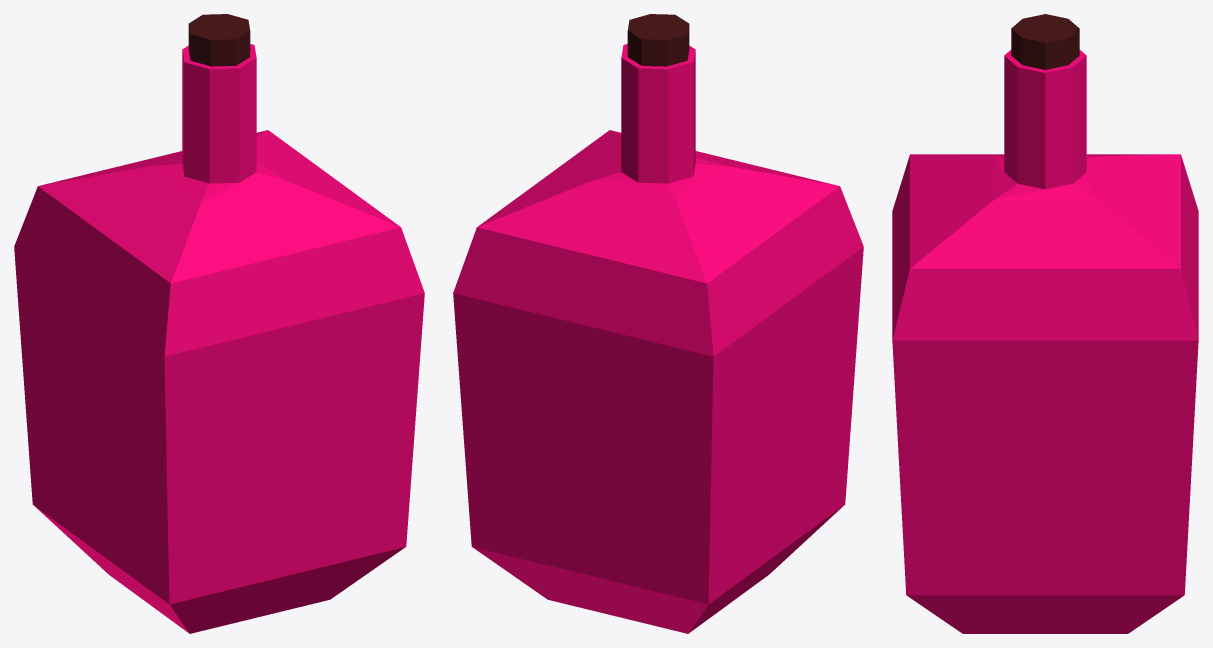
The model's file is Pocao4.fbx.
3 views of the same model, side by side, from view 1: azimuth 30°, elevation 25°; view 2: azimuth 150°, elevation 25°; view 3: azimuth 270°, elevation 25° (orthographic).
Visible parts, largest first — view 1: Cube; view 2: Cube; view 3: Cube.
Boxes of the visible parts, bbox=[...] form: Cube: bbox=[14, 14, 424, 633]; Cube: bbox=[453, 14, 863, 633]; Cube: bbox=[892, 14, 1198, 633].
Bounding box in the file's own units: 10.69 × 21.98 × 10.69.
